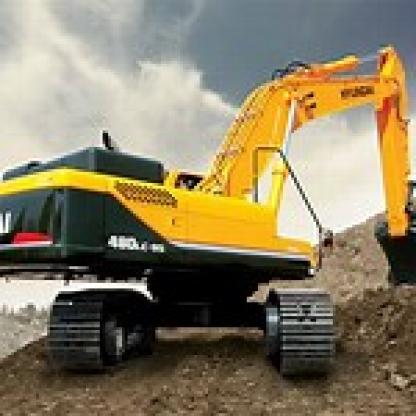excavator: (0, 22, 413, 413)
